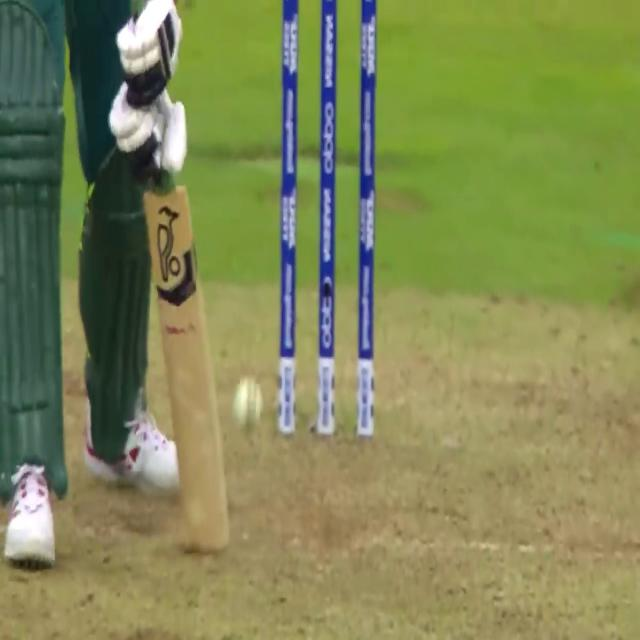ball: (221, 362, 271, 452)
